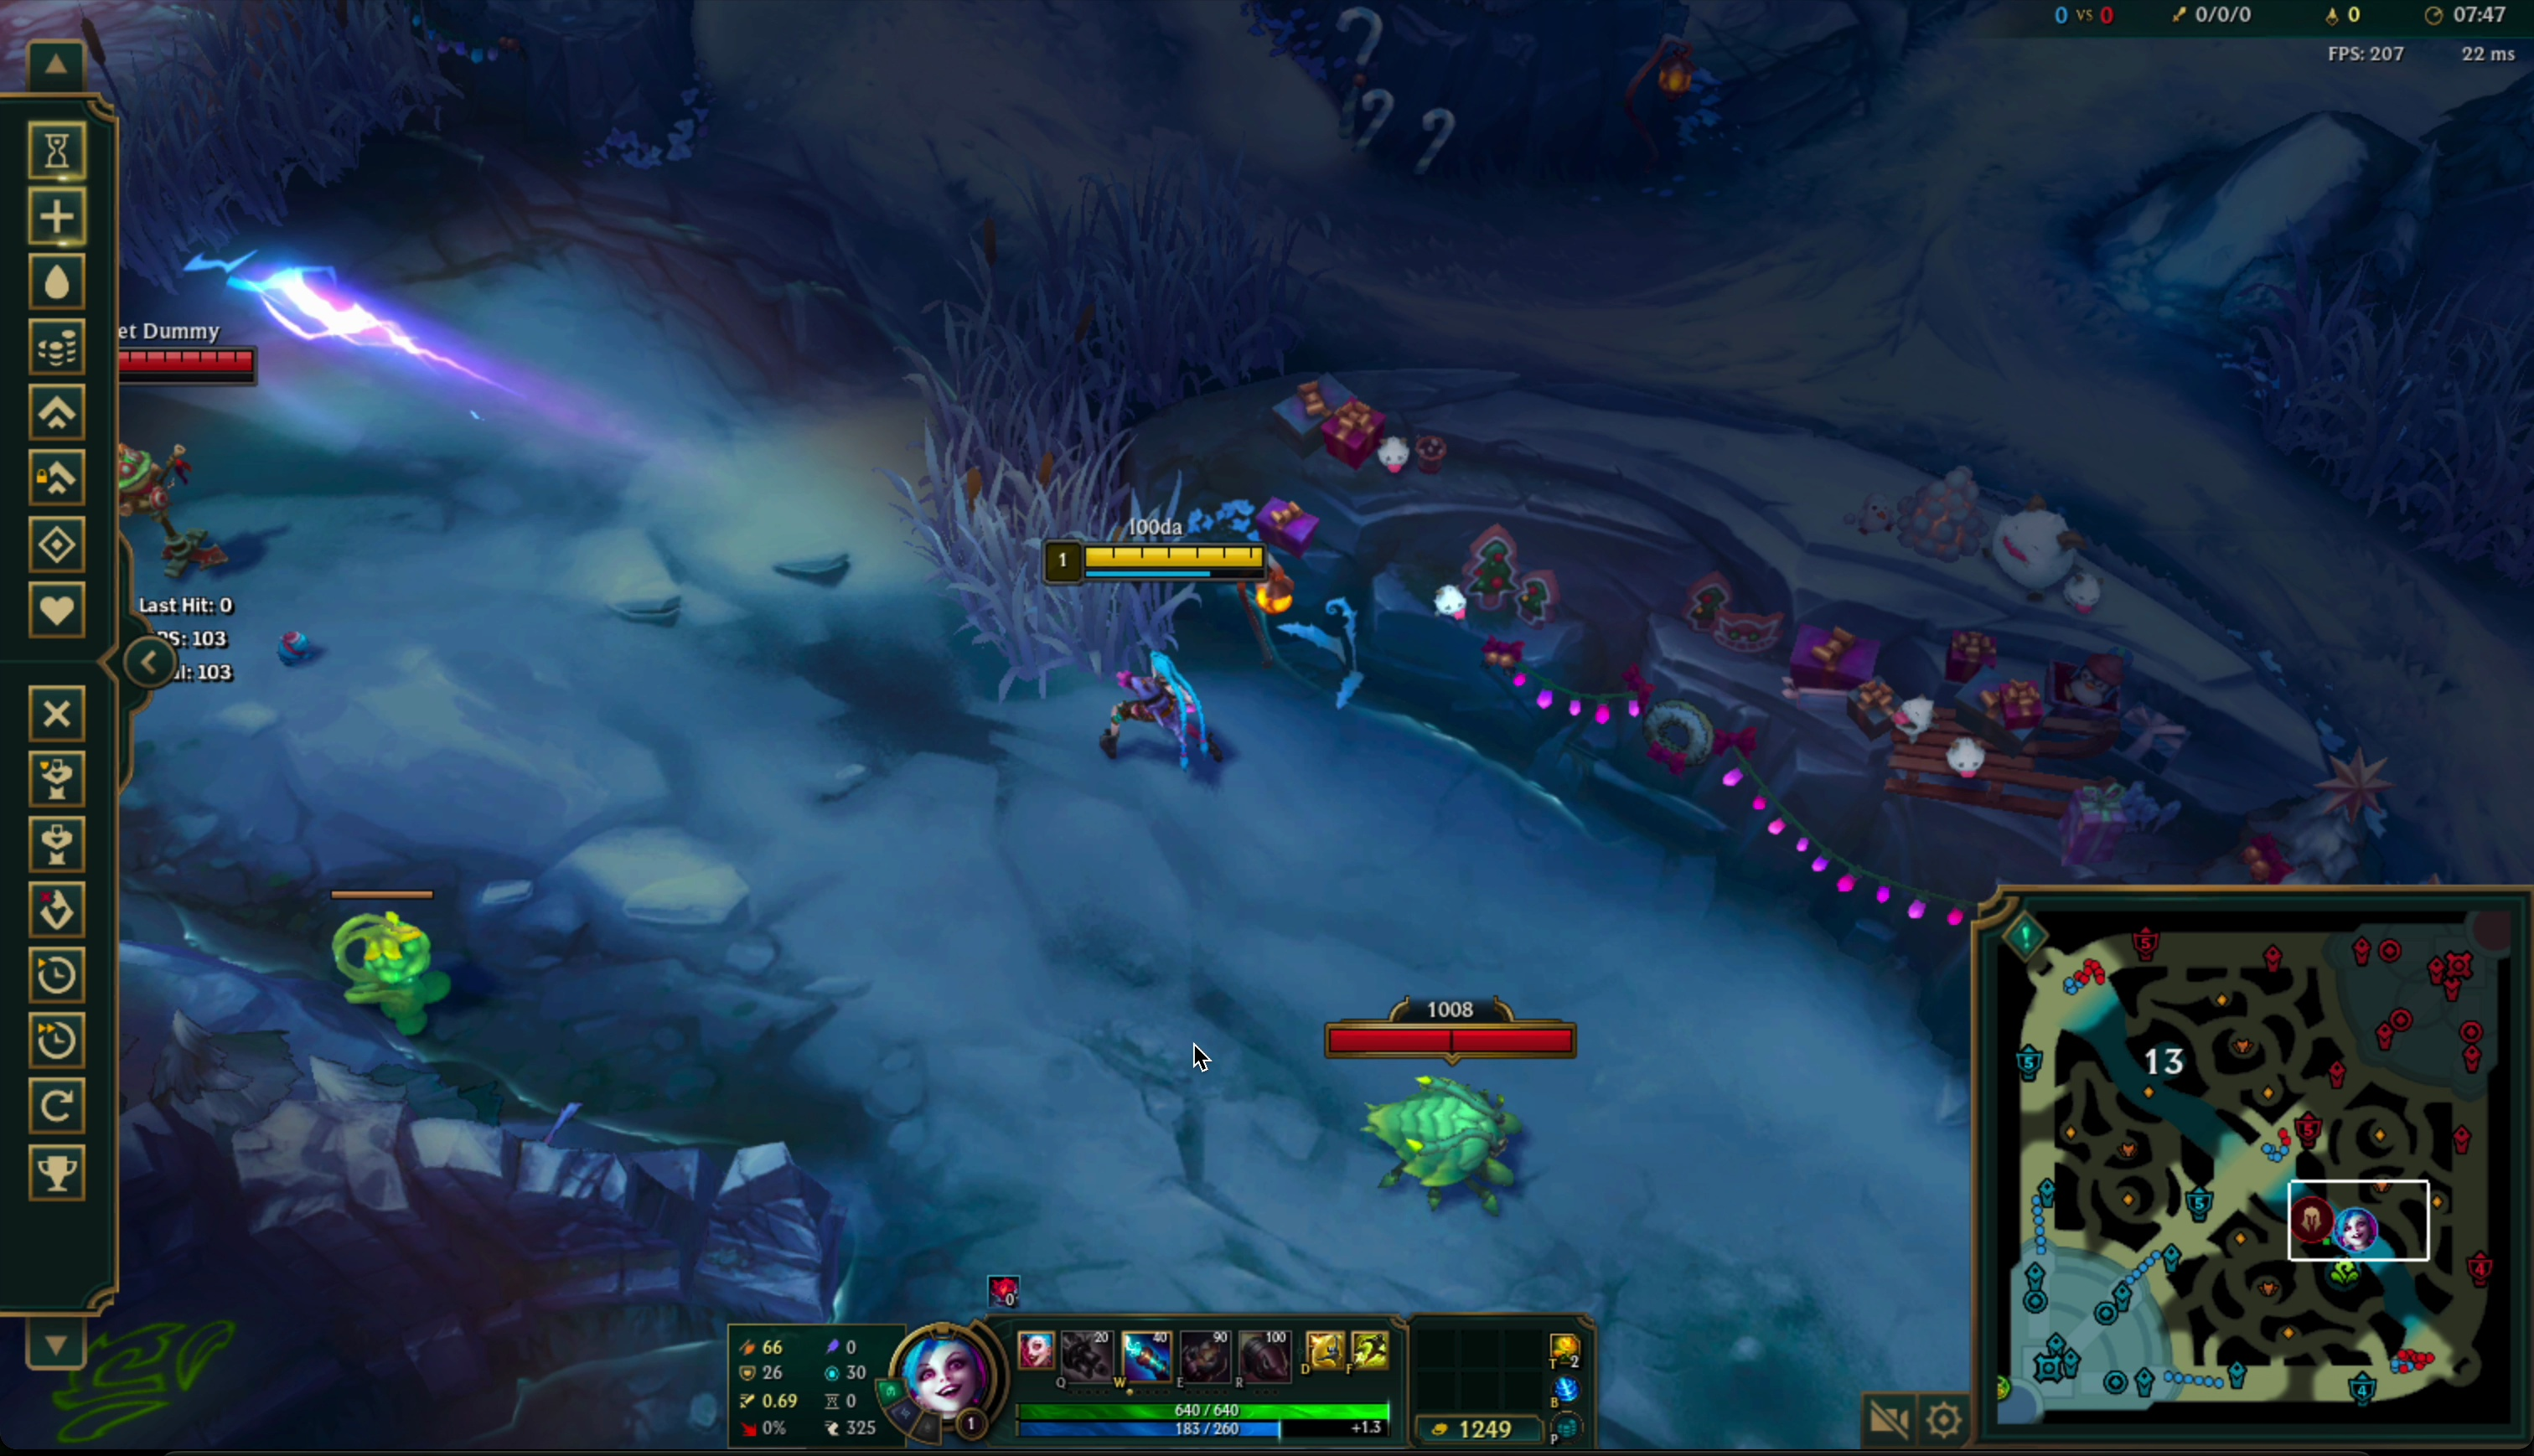JINX_W_PROJECTILE: (127, 228, 710, 508)
